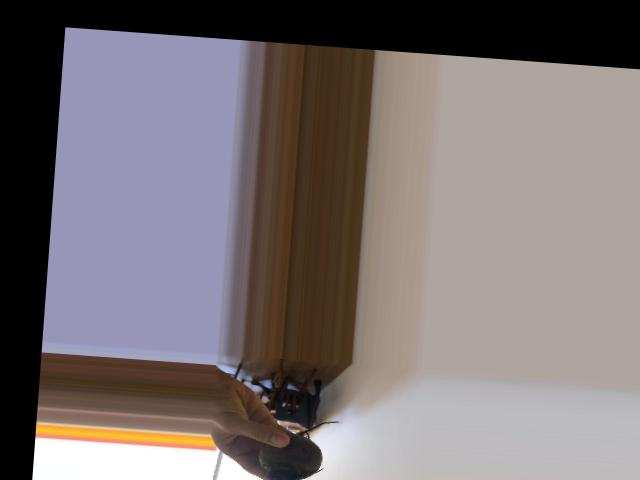beet: (257, 415, 342, 480)
